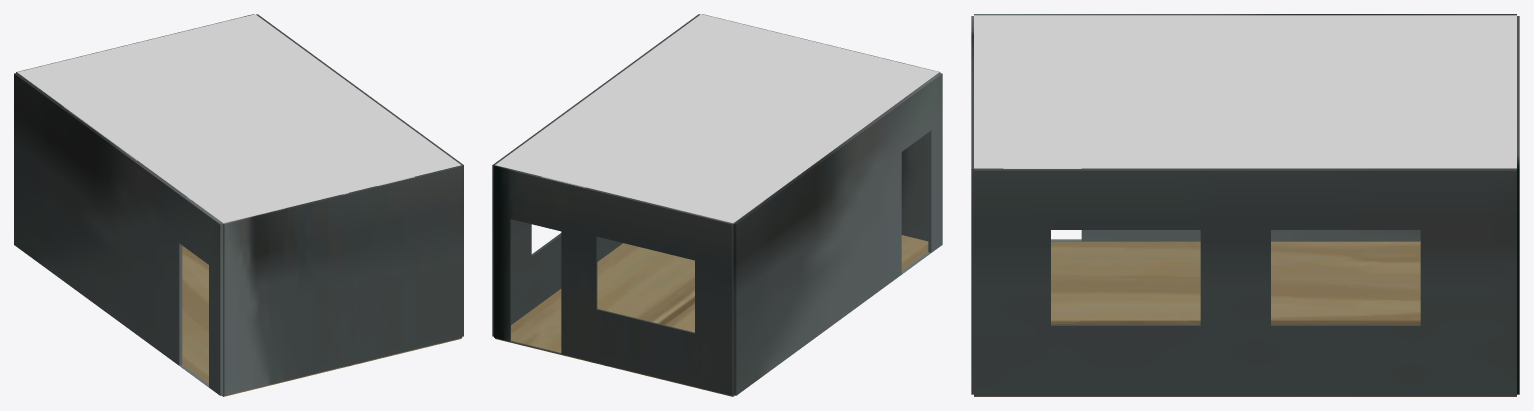
File: salon.fbx
The picture shows the model from 3 angles, left to right: view 1: azimuth 30°, elevation 25°; view 2: azimuth 150°, elevation 25°; view 3: azimuth 270°, elevation 25°; orthographic projection. The views are drawn at different scales.
Visible parts, largest first — view 1: SalonTecho, SalonParedesNS, SalonParedesEO, SalonSuelo; view 2: SalonTecho, SalonParedesEO, SalonParedesNS, SalonSuelo; view 3: SalonParedesEO, SalonTecho, SalonSuelo, SalonParedesNS.
Boxes of the visible parts, x1=… form: SalonTecho: x1=17, y1=14, x2=461, y2=223; SalonParedesNS: x1=16, y1=14, x2=462, y2=395; SalonParedesEO: x1=14, y1=14, x2=463, y2=395; SalonSuelo: x1=182, y1=201, x2=461, y2=396; SalonTecho: x1=495, y1=14, x2=939, y2=223; SalonParedesEO: x1=492, y1=14, x2=942, y2=395; SalonParedesNS: x1=494, y1=14, x2=940, y2=395; SalonSuelo: x1=495, y1=201, x2=928, y2=396; SalonParedesEO: x1=974, y1=14, x2=1516, y2=396; SalonTecho: x1=974, y1=15, x2=1516, y2=168; SalonSuelo: x1=974, y1=241, x2=1516, y2=396; SalonParedesNS: x1=971, y1=16, x2=1519, y2=394.
Bounding box in the file's own units: 819 × 558 × 1211.
